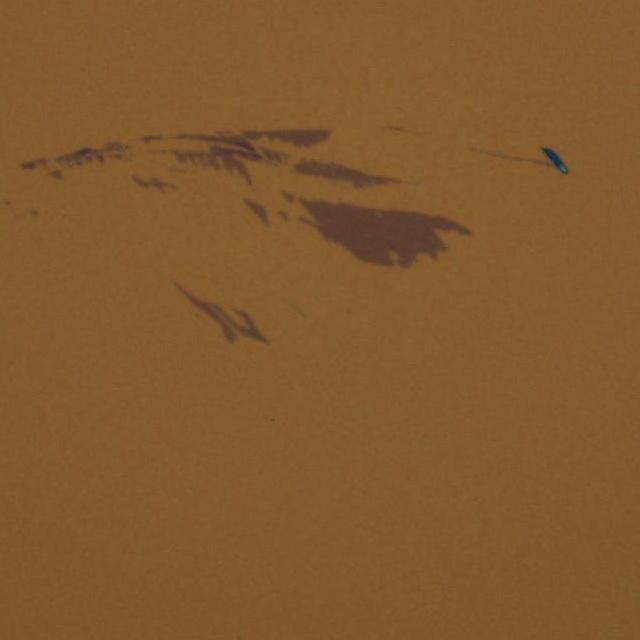monolayer-eWW4: (297, 195, 477, 271), (168, 282, 270, 342), (291, 154, 399, 190), (238, 126, 333, 148), (248, 197, 270, 226)
